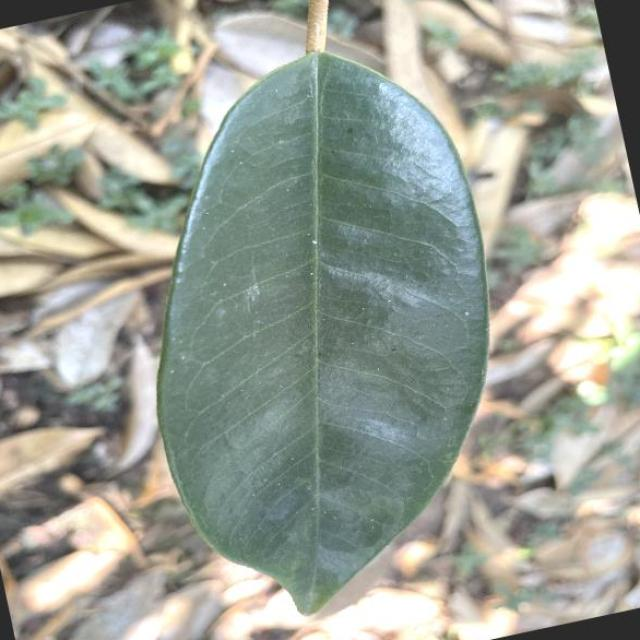No Disease: (80, 14, 568, 640)
